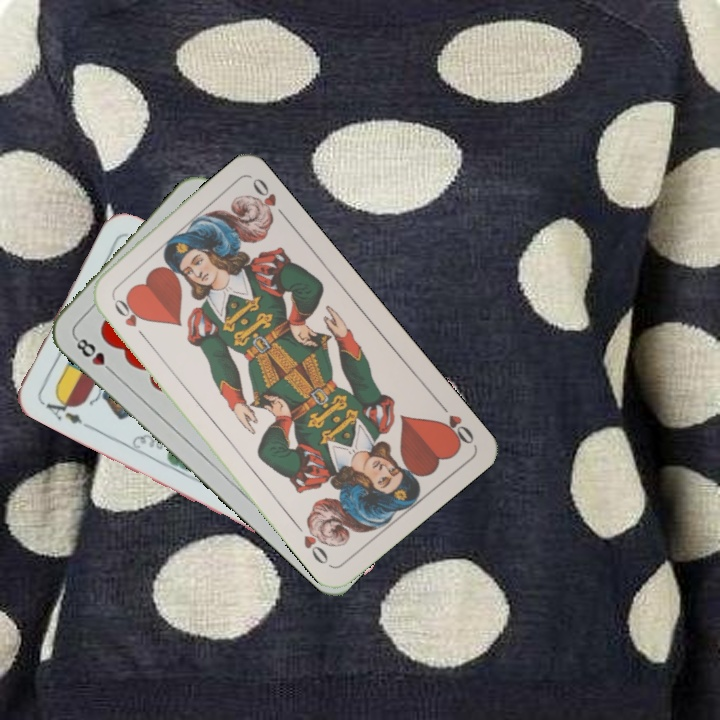EA: (37, 391, 92, 431)
H8: (70, 332, 118, 377)
HO: (434, 397, 477, 449), (108, 292, 149, 342)
